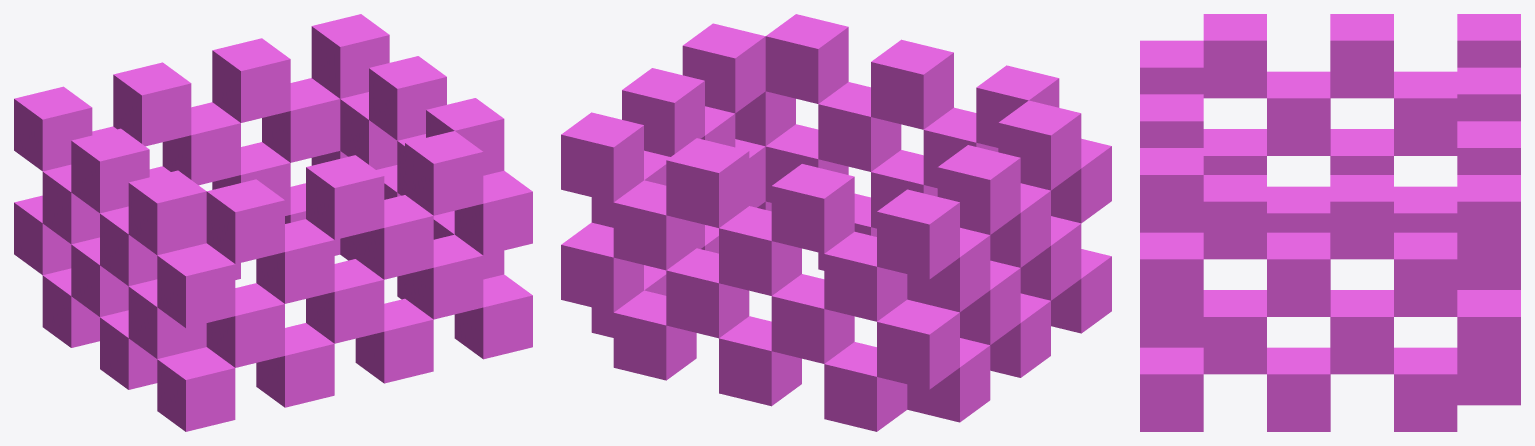
3 views of the same model, side by side, from view 1: azimuth 30°, elevation 25°; view 2: azimuth 150°, elevation 25°; view 3: azimuth 270°, elevation 25° (orthographic). The views are drawn at different scales.
Parts seen in each view (by area): view 1: 100.1; view 2: 100.1; view 3: 100.1.
Boxes of the visible parts, x1,y1,x2,y2 form: 100.1: [14, 14, 532, 431]; 100.1: [561, 14, 1111, 431]; 100.1: [1140, 14, 1520, 431].
Bounding box in the file's own units: 70 × 40 × 60.
1 material, 1 textured.
